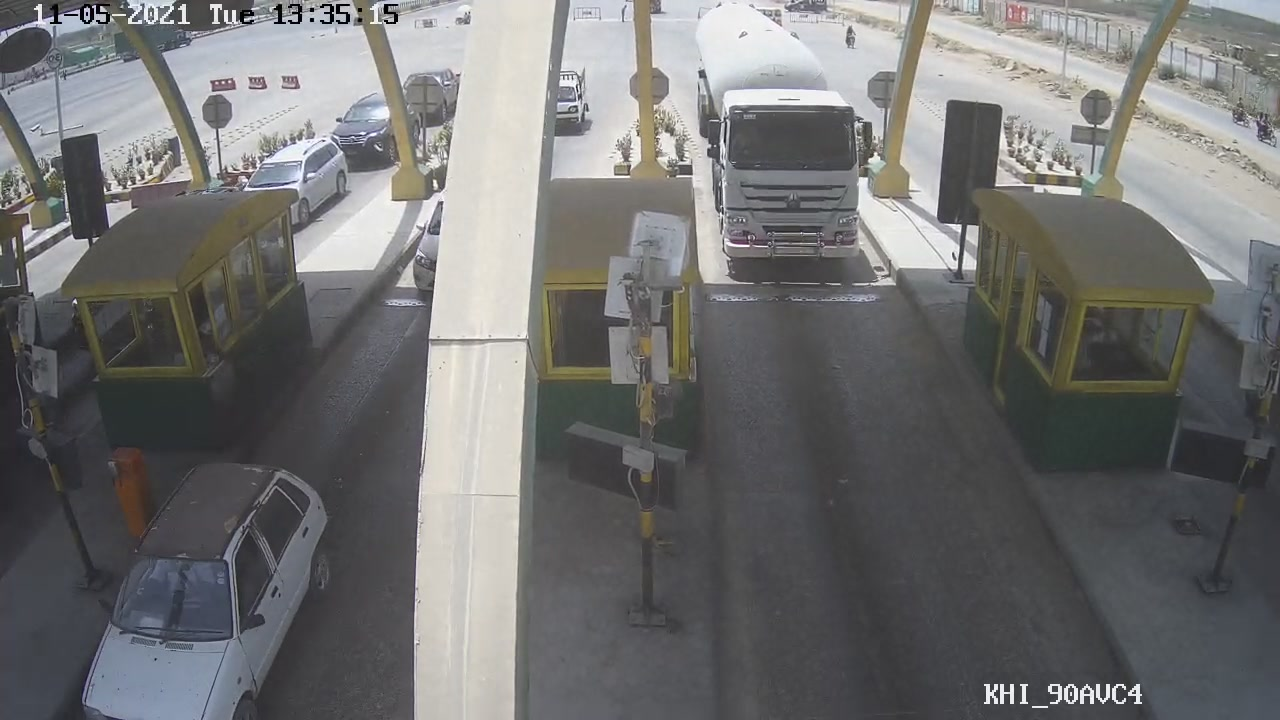F6: (688, 4, 873, 278)
